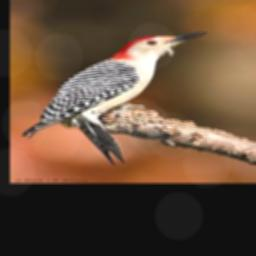Woodpecker: (18, 30, 208, 166)
